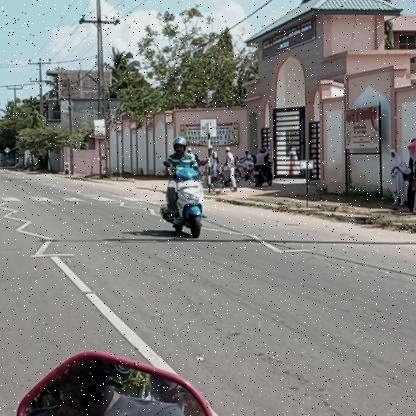motorcycle: (158, 166, 210, 240)
